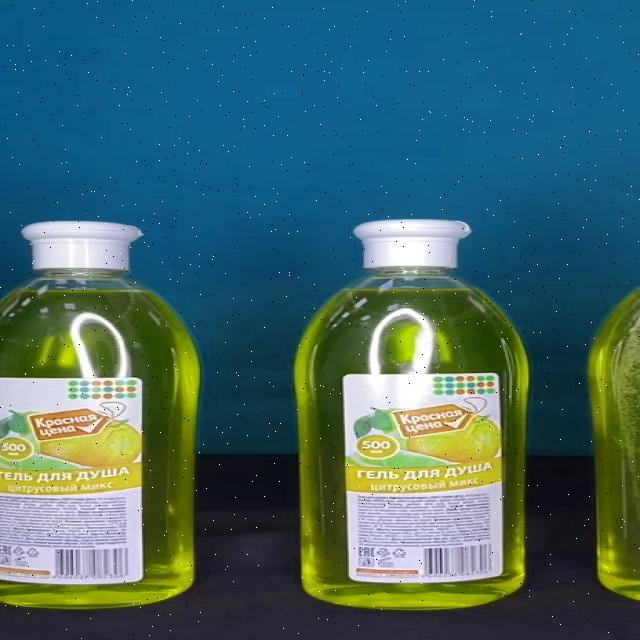Bottle: (292, 220, 529, 610), (0, 222, 198, 610)
Cap: (20, 222, 146, 270), (352, 220, 472, 268)
